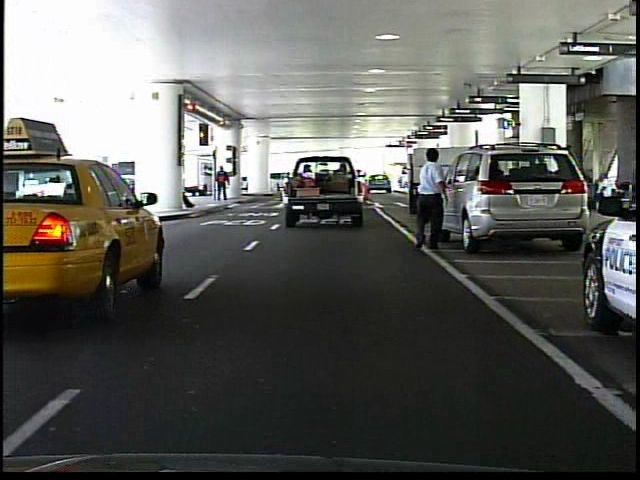person: (406, 145, 455, 254), (214, 163, 233, 204)
